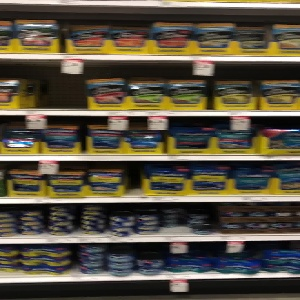void: (21, 65, 89, 107), (161, 202, 190, 234)
